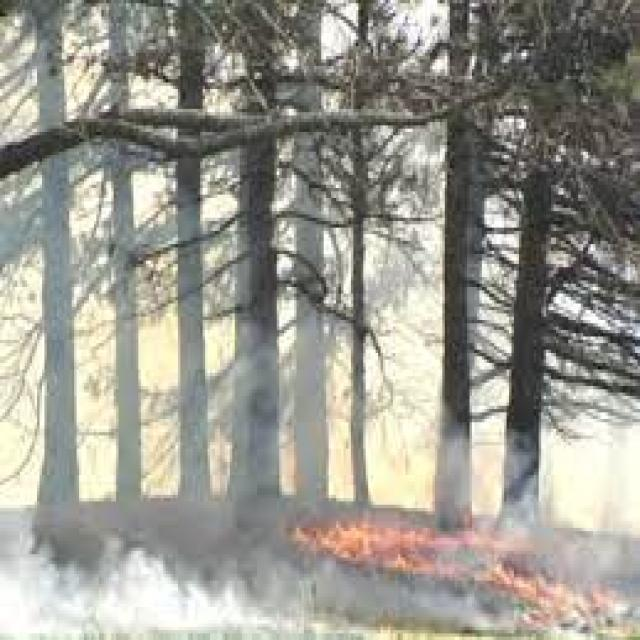Fire: (292, 510, 553, 586)
Smoke: (3, 538, 640, 640), (0, 468, 284, 617), (0, 550, 167, 629)
